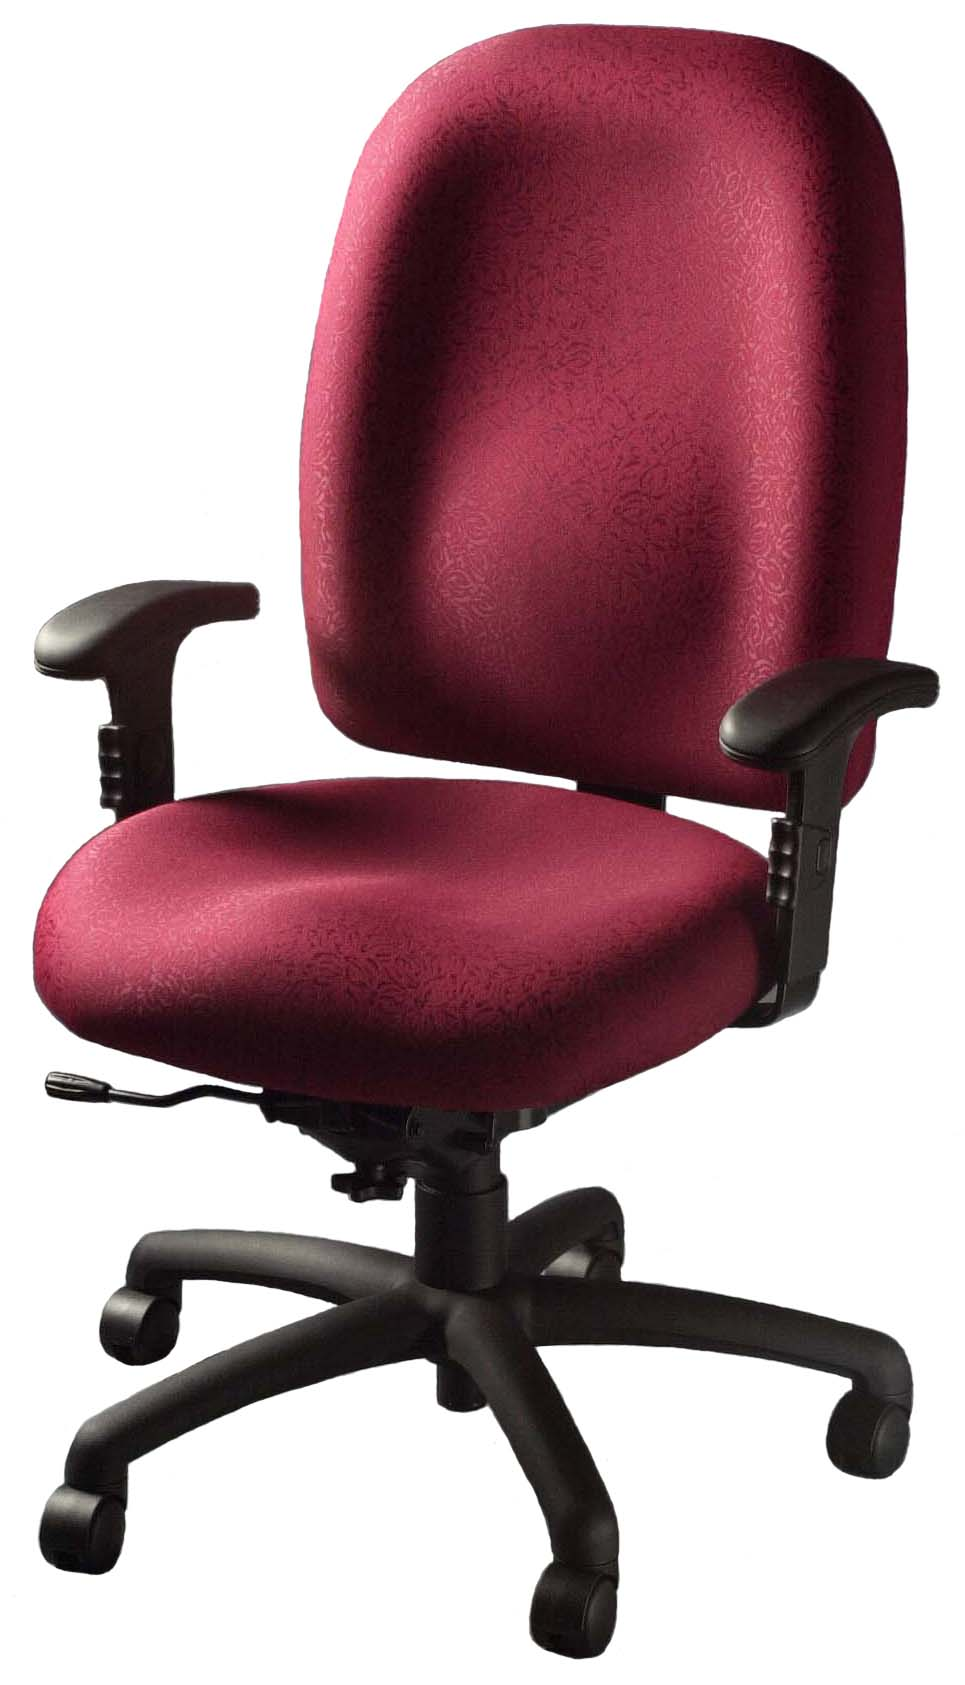chairs: (21, 13, 944, 1664)
